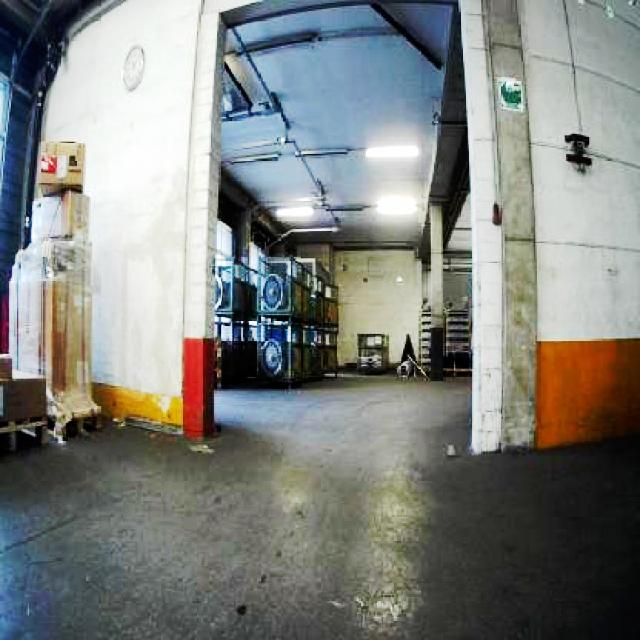ground: (0, 365, 638, 638)
pallet: (2, 138, 100, 443), (214, 252, 338, 388), (0, 346, 49, 632), (0, 349, 49, 462), (442, 305, 471, 378), (355, 331, 388, 374), (417, 306, 431, 374)
